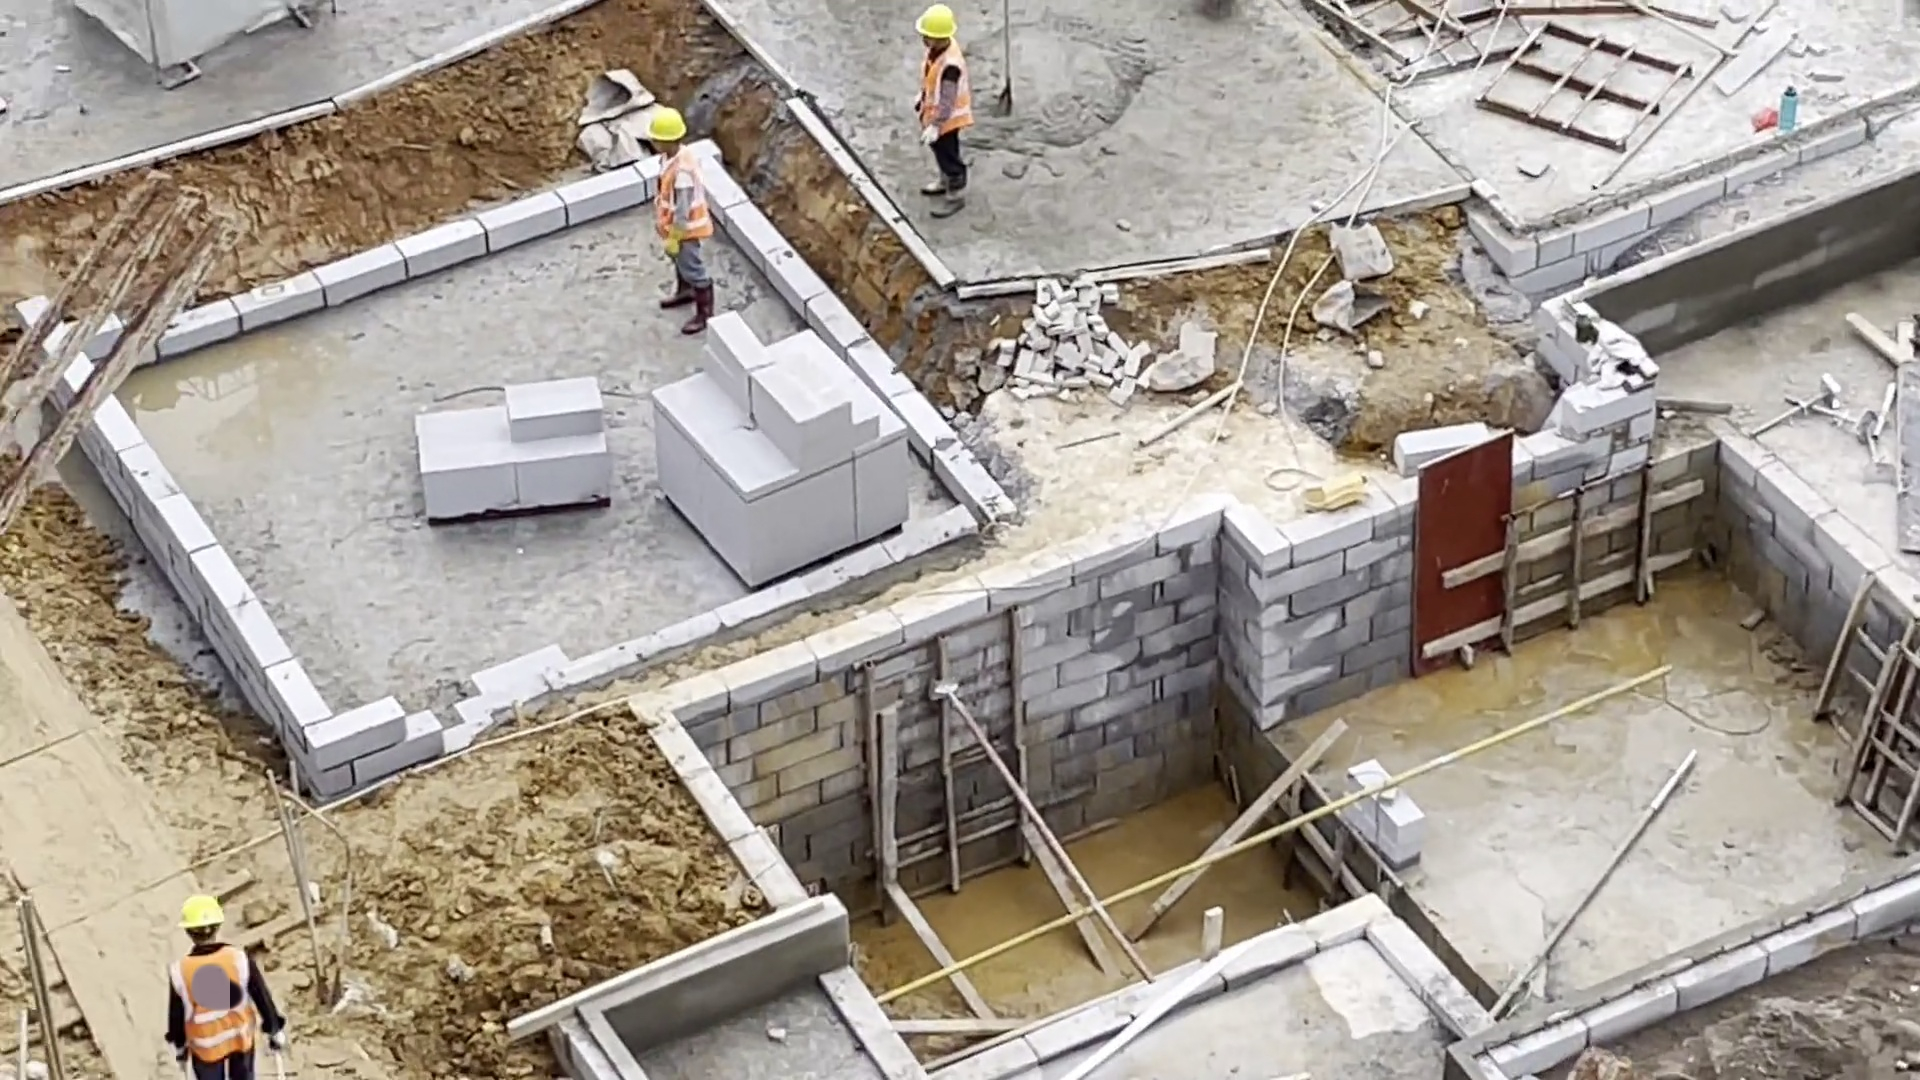brick: (651, 311, 914, 587), (411, 368, 618, 523)
helmet: (177, 890, 223, 928), (918, 2, 959, 41), (644, 105, 685, 137)
person: (148, 889, 287, 1080), (640, 104, 720, 345), (911, 2, 977, 227)
vest: (167, 939, 260, 1064), (648, 156, 714, 243), (915, 49, 974, 142)
